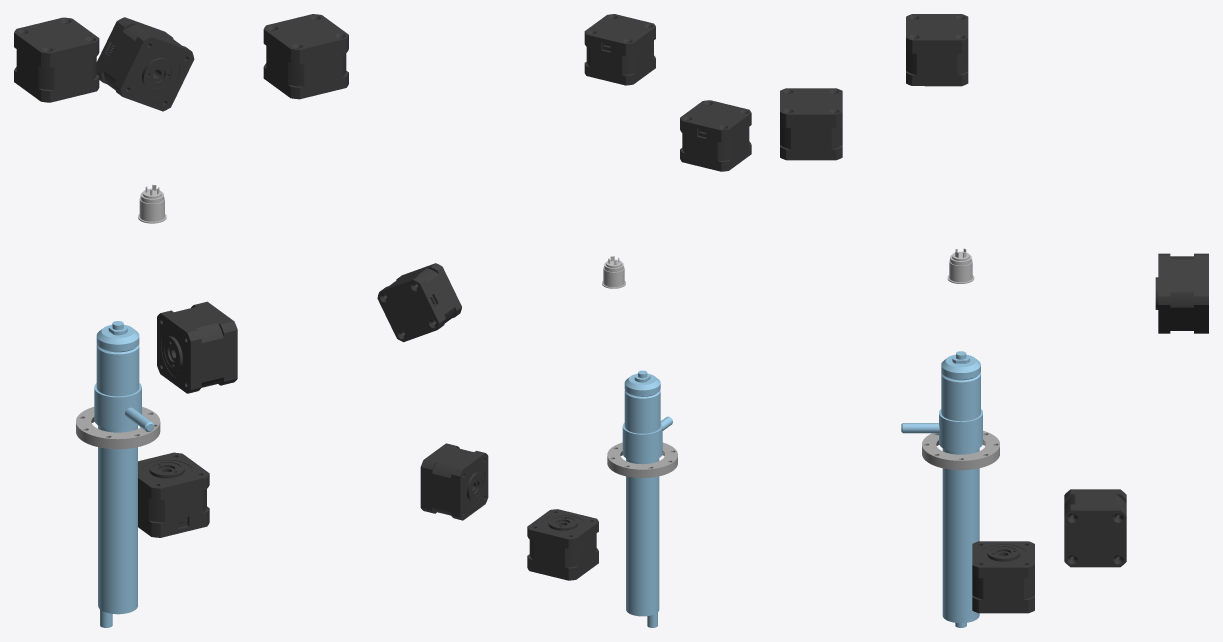
The model's file is v2-50-renamed.glb.
The picture shows the model from 3 angles, left to right: view 1: azimuth 30°, elevation 25°; view 2: azimuth 150°, elevation 25°; view 3: azimuth 270°, elevation 25°; orthographic projection. The views are drawn at different scales.
Parts seen in each view (by area): view 1: Part 1:1, Nema 17 Front:4, Nema 17 Back:5, Nema 17 Back:2, Nema 17 Front:3, Nema 17 Front:1, Nema 17 Center:3, Nema 17 Center:2, Nema 17 Center:5, Part 1 (1):1, Nema 17 Center:1, Nema 17 Center:4 (+6 smaller); view 2: Part 1:1, Nema 17 Back:4, Nema 17 Back:2, Nema 17 Back:5, Nema 17 Front:3, Nema 17 Front:1, Part 1 (1):1, Nema 17 Center:1, Nema 17 Center:5, Nema 17 Center:2, Nema 17 Center:3, Nema 17 Back:3 (+6 smaller); view 3: Part 1:1, Nema 17 Back:3, Nema 17 Back:2, Nema 17 Back:5, Nema 17 Front:1, Nema 17 Center:4, Part 1 (1):1, Nema 17 Center:1, Nema 17 Center:2, Nema 17 Center:5, Nema 17 Back:4, Nema 17 Front:4 (+5 smaller).
Boxes of the visible parts, bbox=[...] form: Part 1:1: bbox=[94, 321, 154, 627]; Nema 17 Front:4: bbox=[114, 32, 194, 111]; Nema 17 Back:5: bbox=[263, 14, 348, 64]; Nema 17 Back:2: bbox=[14, 17, 99, 67]; Nema 17 Front:3: bbox=[157, 310, 201, 393]; Nema 17 Front:1: bbox=[138, 452, 209, 500]; Nema 17 Center:3: bbox=[169, 307, 223, 387]; Nema 17 Center:2: bbox=[16, 33, 96, 89]; Nema 17 Center:5: bbox=[266, 30, 346, 86]; Part 1 (1):1: bbox=[76, 407, 160, 449]; Nema 17 Center:1: bbox=[138, 467, 206, 522]; Nema 17 Center:4: bbox=[103, 24, 180, 89]; Part 1:1: bbox=[622, 370, 672, 627]; Nema 17 Back:4: bbox=[377, 275, 445, 342]; Nema 17 Back:2: bbox=[680, 100, 751, 142]; Nema 17 Back:5: bbox=[584, 14, 655, 56]; Nema 17 Front:3: bbox=[451, 450, 488, 520]; Nema 17 Front:1: bbox=[527, 509, 598, 548]; Part 1 (1):1: bbox=[607, 442, 677, 477]; Nema 17 Center:1: bbox=[529, 521, 596, 567]; Nema 17 Center:5: bbox=[586, 27, 653, 74]; Nema 17 Center:2: bbox=[682, 114, 749, 161]; Nema 17 Center:3: bbox=[432, 447, 477, 515]; Nema 17 Back:3: bbox=[420, 443, 459, 513]; Part 1:1: bbox=[901, 351, 982, 627]; Nema 17 Back:3: bbox=[1064, 504, 1126, 567]; Nema 17 Back:2: bbox=[906, 14, 968, 53]; Nema 17 Back:5: bbox=[780, 88, 842, 127]; Nema 17 Front:1: bbox=[972, 541, 1034, 578]; Nema 17 Center:4: bbox=[1170, 256, 1193, 330]; Part 1 (1):1: bbox=[922, 430, 999, 470]; Nema 17 Center:1: bbox=[972, 551, 1034, 599]; Nema 17 Center:2: bbox=[906, 25, 968, 75]; Nema 17 Center:5: bbox=[780, 99, 842, 149]; Nema 17 Back:4: bbox=[1194, 253, 1208, 333]; Nema 17 Front:4: bbox=[1155, 253, 1170, 333].
Bounding box in the file's own units: 0.207 × 0.4309 × 0.2897.
